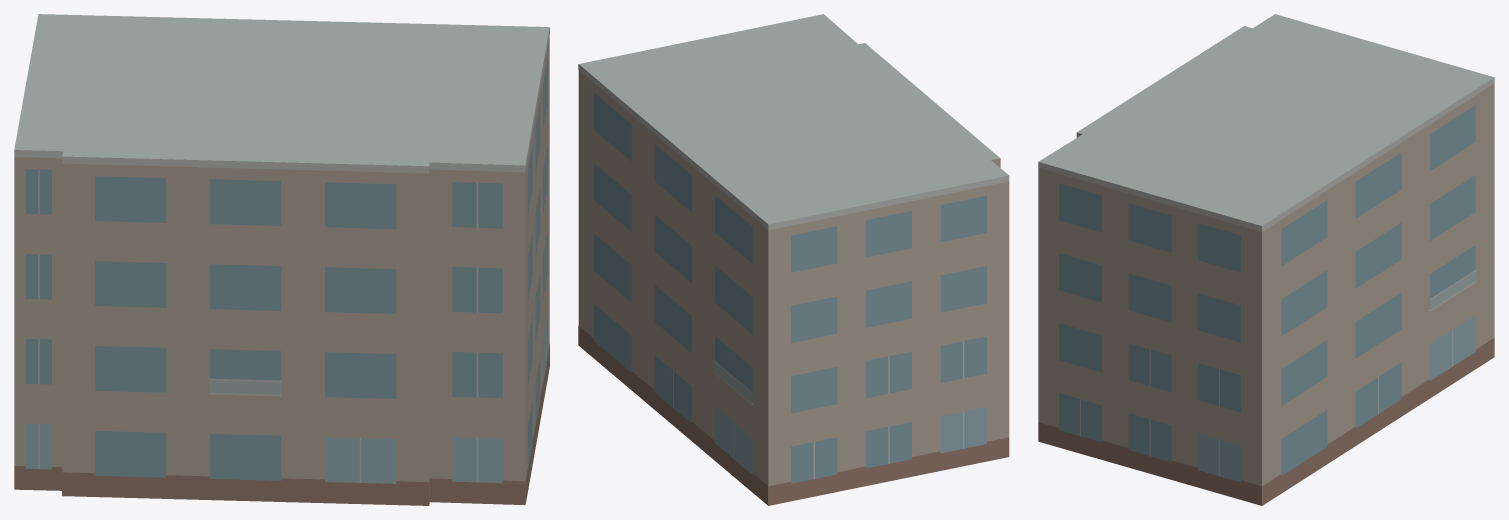
File: survey-upis-33047388.glb
3 views of the same model, side by side, from view 1: azimuth 30°, elevation 25°; view 2: azimuth 150°, elevation 25°; view 3: azimuth 270°, elevation 25° (orthographic). The views are drawn at different scales.
Visible parts, largest first — view 1: survey-upis-33047388.tmp; view 2: survey-upis-33047388.tmp; view 3: survey-upis-33047388.tmp.
Part boxes in pixels (x1,y1,x2,y2): survey-upis-33047388.tmp: (14, 14, 549, 505); survey-upis-33047388.tmp: (578, 14, 1009, 505); survey-upis-33047388.tmp: (1038, 14, 1494, 505).
Bounding box in the file's own units: 19.03 × 11.7 × 17.3.
